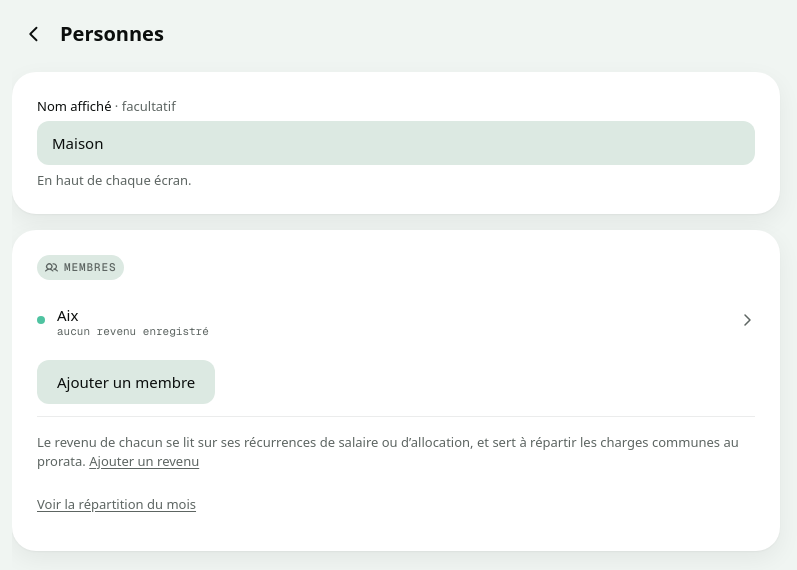
les personnes › mènent à la fiche d’un membre, où le prénom se valide
Click the button "Aix aucun revenu enregistré". click: (133,331)
box: [25,292,767,348]
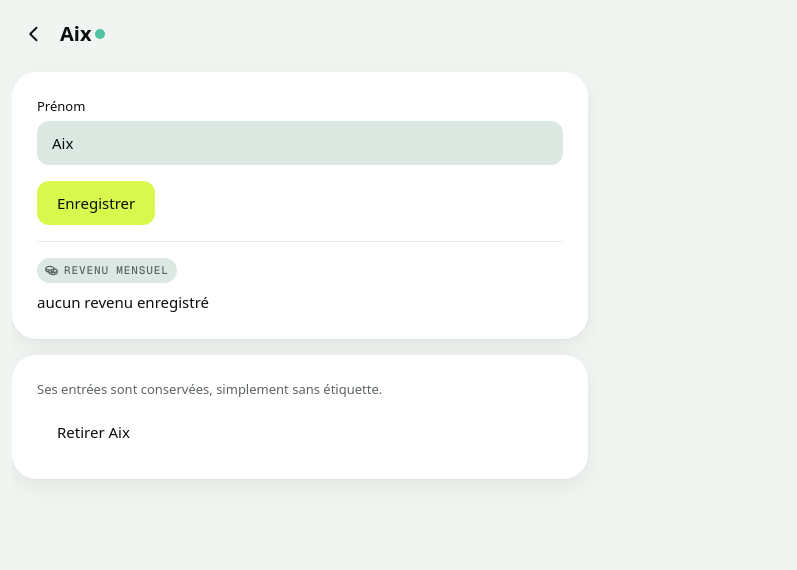
Now the heading reads "Aix", box [60,20,92,47]
Replace the text in the field labelled "Prénom" with "Camille". click: (300,143)
box: [37,121,563,165]
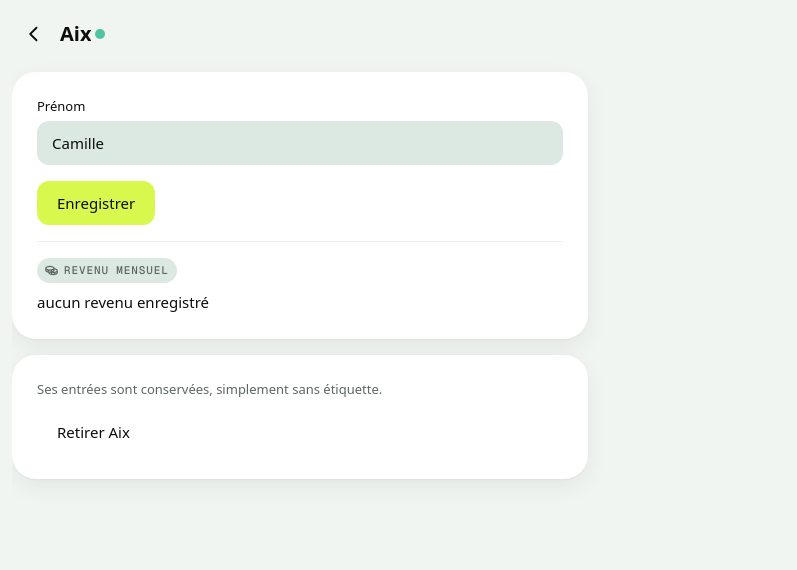
Now the heading reads "Aix", box [60,20,92,47]
Click the button "Enregistrer". click: (96,203)
box: [37,181,155,225]
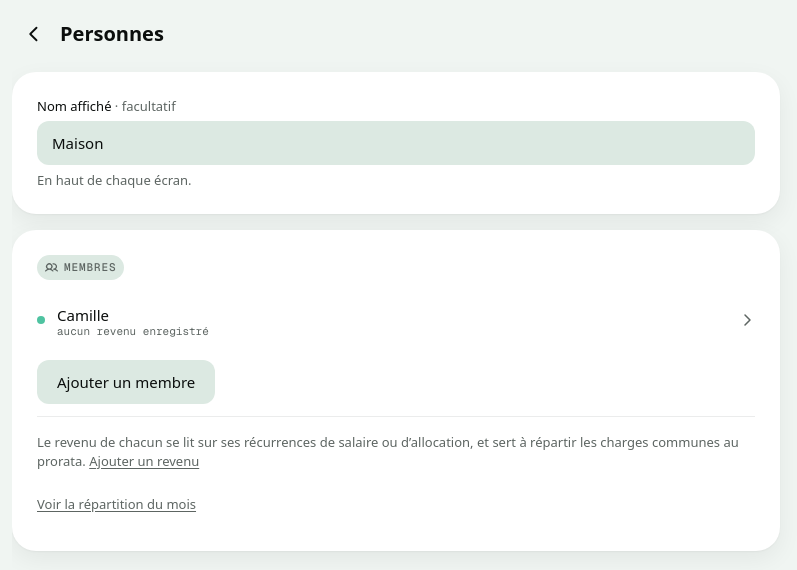
Now the text "Camille" is shown, box [57,305,109,325]
Now the heading reads "Personnes", box [60,20,164,47]
